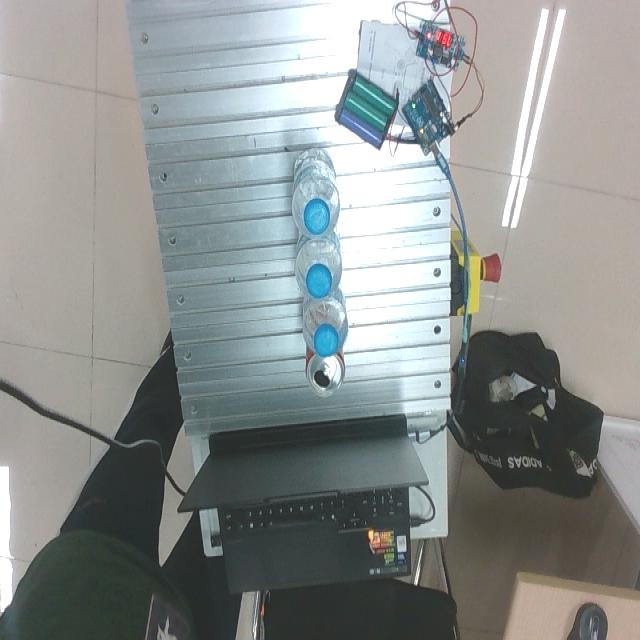coca: (305, 344, 346, 397)
lavie: (291, 151, 341, 241), (294, 232, 343, 300), (301, 288, 349, 357)
